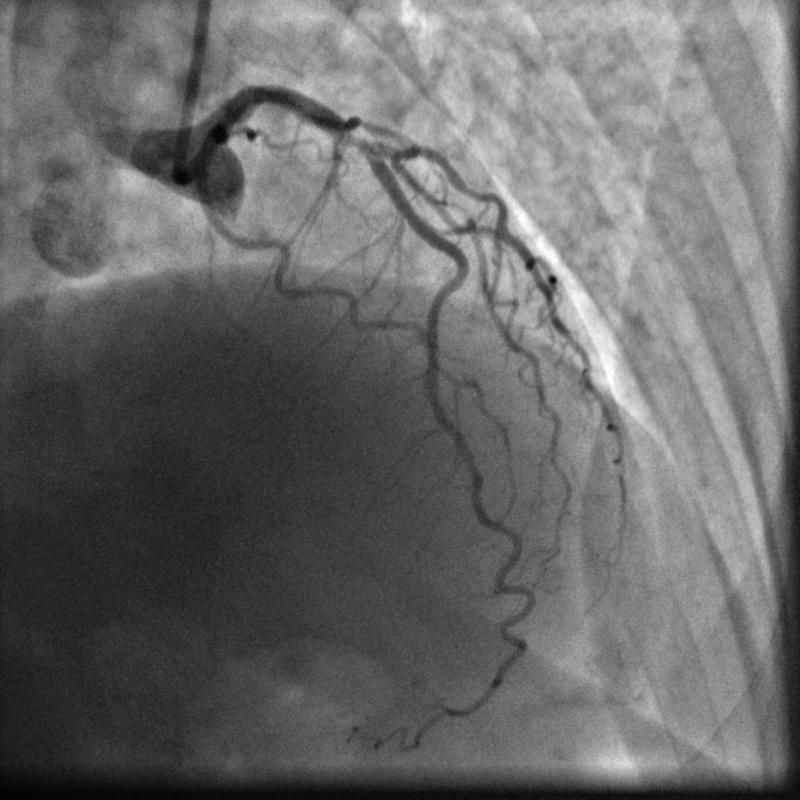Stenosis: (348, 126, 369, 154)
